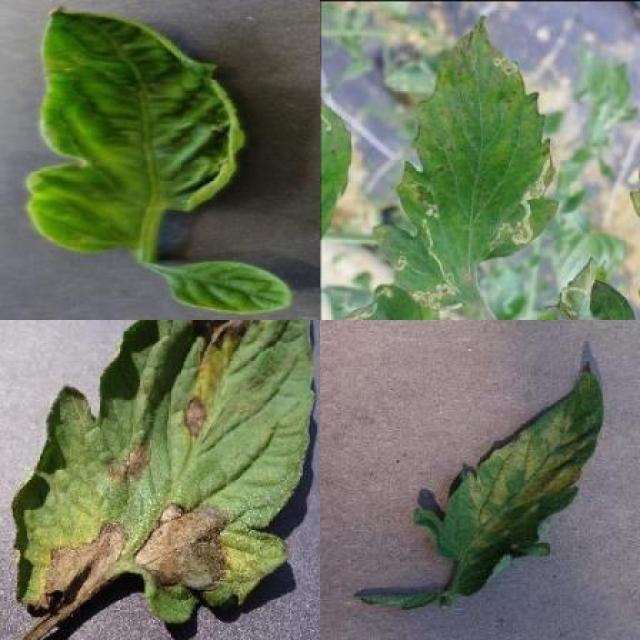Late Blight: (11, 320, 320, 626)
Leaf Miner: (373, 14, 560, 312)
Leaf Mold: (414, 362, 606, 592)
Yellow Leaf Curl Virus: (23, 6, 246, 254), (167, 259, 292, 317)
